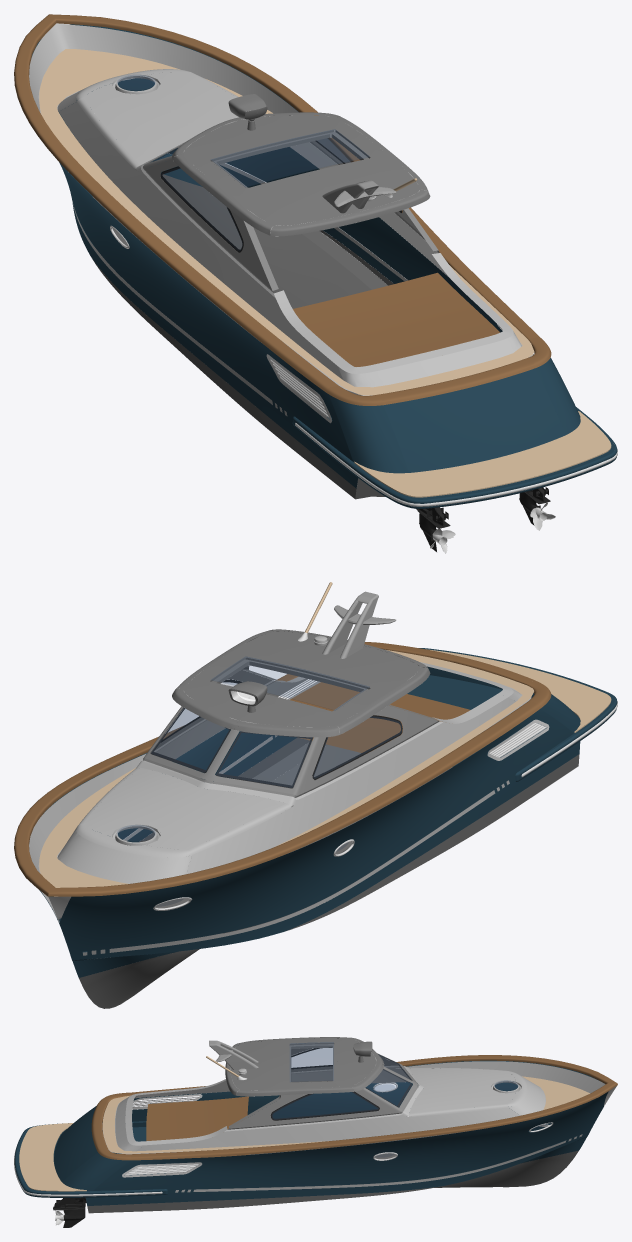
Rendered from YModel.glb.
3 views of the same model, one above another, from view 1: azimuth 30°, elevation 25°; view 2: azimuth 150°, elevation 25°; view 3: azimuth 270°, elevation 25° (orthographic). The views are drawn at different scales.
Parts seen in each view (by area): view 1: polySurface65, nurbsToPoly132, polySurface3, nurbsToPoly139, nurbsToPoly135, nurbsToPoly169, nurbsToPoly130, nurbsToPoly168, nurbsToPoly174, nurbsToPoly134, nurbsToPoly73, nurbsToPoly96 (+11 smaller); view 2: nurbsToPoly132, polySurface65, polySurface3, nurbsToPoly139, nurbsToPoly94, nurbsToPoly130, nurbsToPoly96, nurbsToPoly168, nurbsToPoly73, nurbsToPoly169, nurbsToPoly133, nurbsToPoly91 (+13 smaller); view 3: nurbsToPoly132, polySurface65, polySurface3, nurbsToPoly139, nurbsToPoly169, nurbsToPoly96, nurbsToPoly168, nurbsToPoly174, nurbsToPoly91, nurbsToPoly133, nurbsToPoly130, nurbsToPoly135 (+14 smaller).
Part boxes in pixels (x1=…): polySurface65: x1=29, y1=24, x2=532, y2=395; nurbsToPoly132: x1=32, y1=24, x2=502, y2=488; polySurface3: x1=172, y1=112, x2=430, y2=236; nurbsToPoly139: x1=14, y1=14, x2=551, y2=405; nurbsToPoly135: x1=383, y1=368, x2=565, y2=472; nurbsToPoly169: x1=293, y1=272, x2=499, y2=366; nurbsToPoly130: x1=39, y1=49, x2=534, y2=395; nurbsToPoly168: x1=92, y1=166, x2=371, y2=485; nurbsToPoly174: x1=354, y1=411, x2=611, y2=497; nurbsToPoly134: x1=328, y1=357, x2=580, y2=473; nurbsToPoly73: x1=211, y1=129, x2=369, y2=186; nurbsToPoly96: x1=143, y1=141, x2=439, y2=292; nurbsToPoly132: x1=39, y1=709, x2=580, y2=960; polySurface65: x1=29, y1=662, x2=531, y2=896; polySurface3: x1=172, y1=629, x2=430, y2=737; nurbsToPoly139: x1=14, y1=642, x2=551, y2=896; nurbsToPoly94: x1=151, y1=708, x2=312, y2=787; nurbsToPoly130: x1=39, y1=649, x2=534, y2=887; nurbsToPoly96: x1=143, y1=665, x2=439, y2=797; nurbsToPoly168: x1=79, y1=745, x2=452, y2=1008; nurbsToPoly73: x1=211, y1=656, x2=369, y2=710; nurbsToPoly169: x1=290, y1=682, x2=470, y2=752; nurbsToPoly133: x1=139, y1=737, x2=579, y2=931; nurbsToPoly91: x1=164, y1=683, x2=401, y2=778; nurbsToPoly132: x1=85, y1=1060, x2=608, y2=1205; polySurface65: x1=102, y1=1061, x2=605, y2=1154; polySurface3: x1=225, y1=1037, x2=383, y2=1096; nurbsToPoly139: x1=91, y1=1055, x2=617, y2=1160; nurbsToPoly169: x1=146, y1=1096, x2=248, y2=1158; nurbsToPoly96: x1=228, y1=1048, x2=418, y2=1129; nurbsToPoly168: x1=170, y1=1146, x2=578, y2=1189; nurbsToPoly174: x1=19, y1=1123, x2=86, y2=1191; nurbsToPoly91: x1=272, y1=1048, x2=378, y2=1119; nurbsToPoly133: x1=87, y1=1186, x2=439, y2=1213; nurbsToPoly130: x1=102, y1=1076, x2=589, y2=1153; nurbsToPoly135: x1=54, y1=1107, x2=97, y2=1181.
Size of the model in its own units: 0.0936 by 0.0968 by 0.3118.
